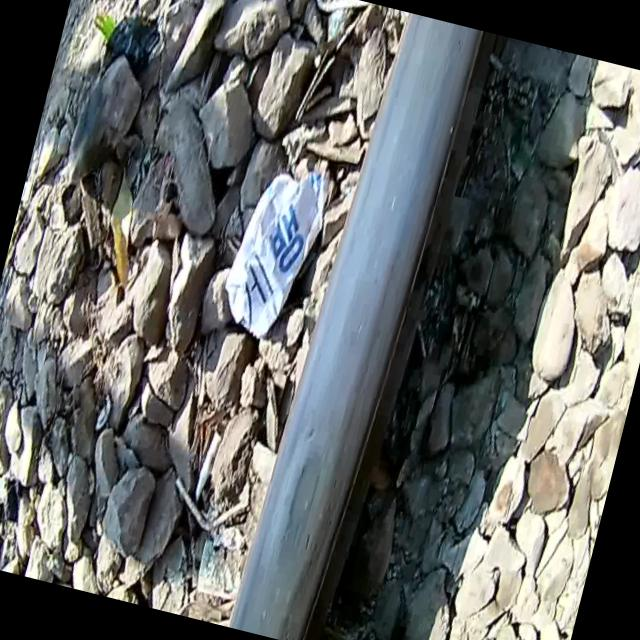Squats: (230, 424, 374, 597)
